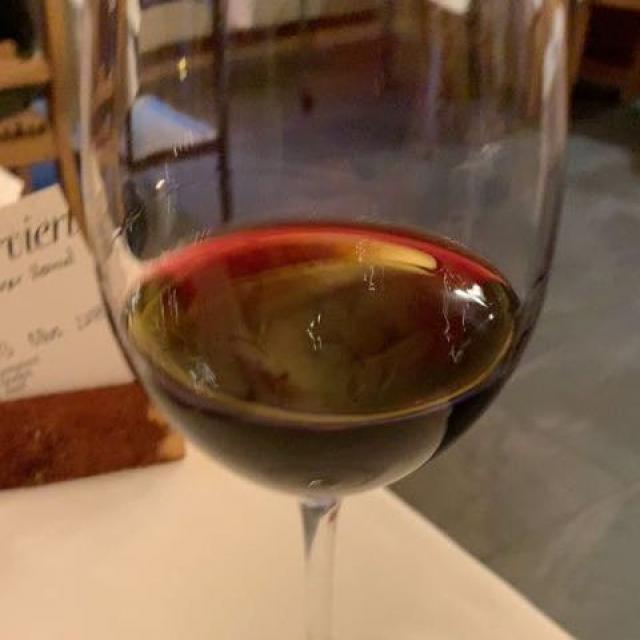wine: (49, 206, 519, 503), (143, 203, 546, 503), (135, 230, 516, 514), (126, 229, 498, 519)
